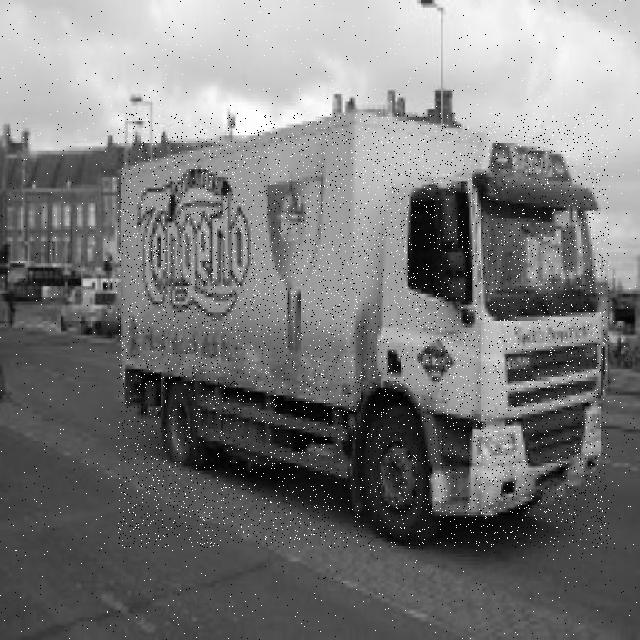Box Truck: (118, 113, 609, 548)
